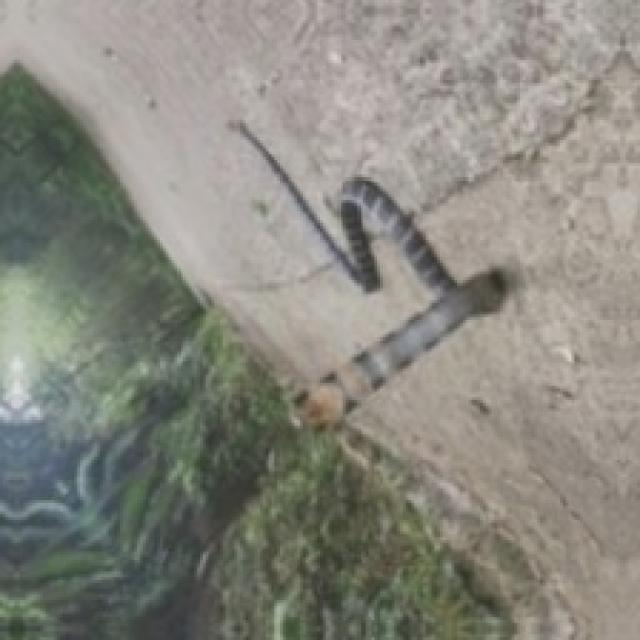king cobra: (231, 120, 506, 426)
